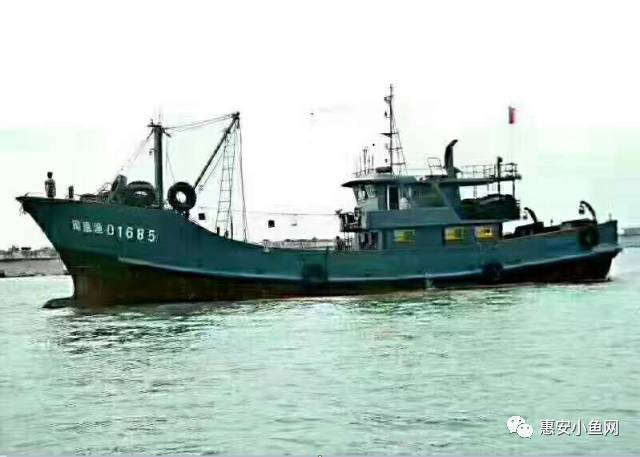otherboat: (11, 99, 630, 309)
